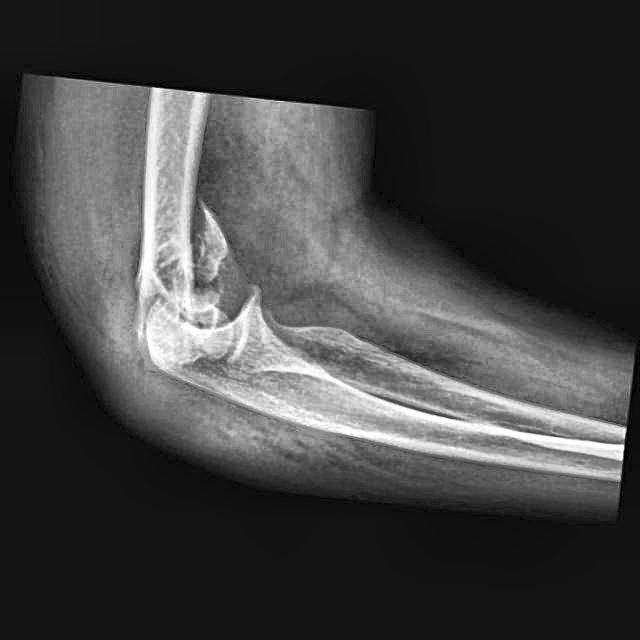Oblique Displaced: (140, 195, 239, 325)
